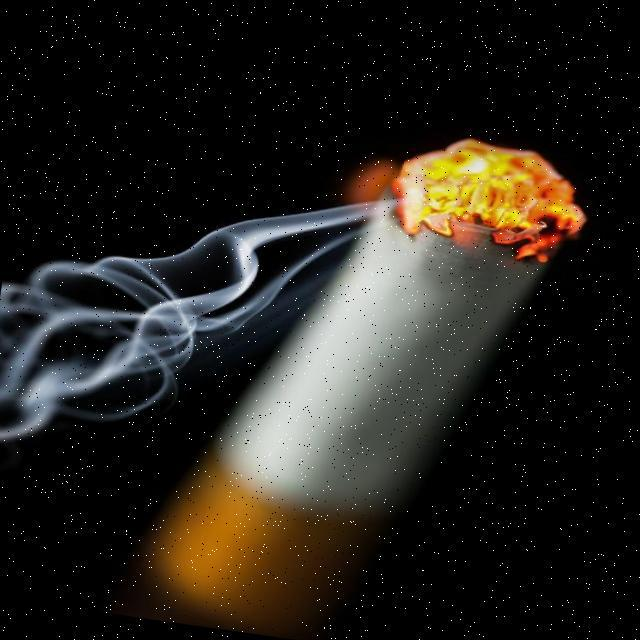cigarette: (134, 114, 601, 630)
